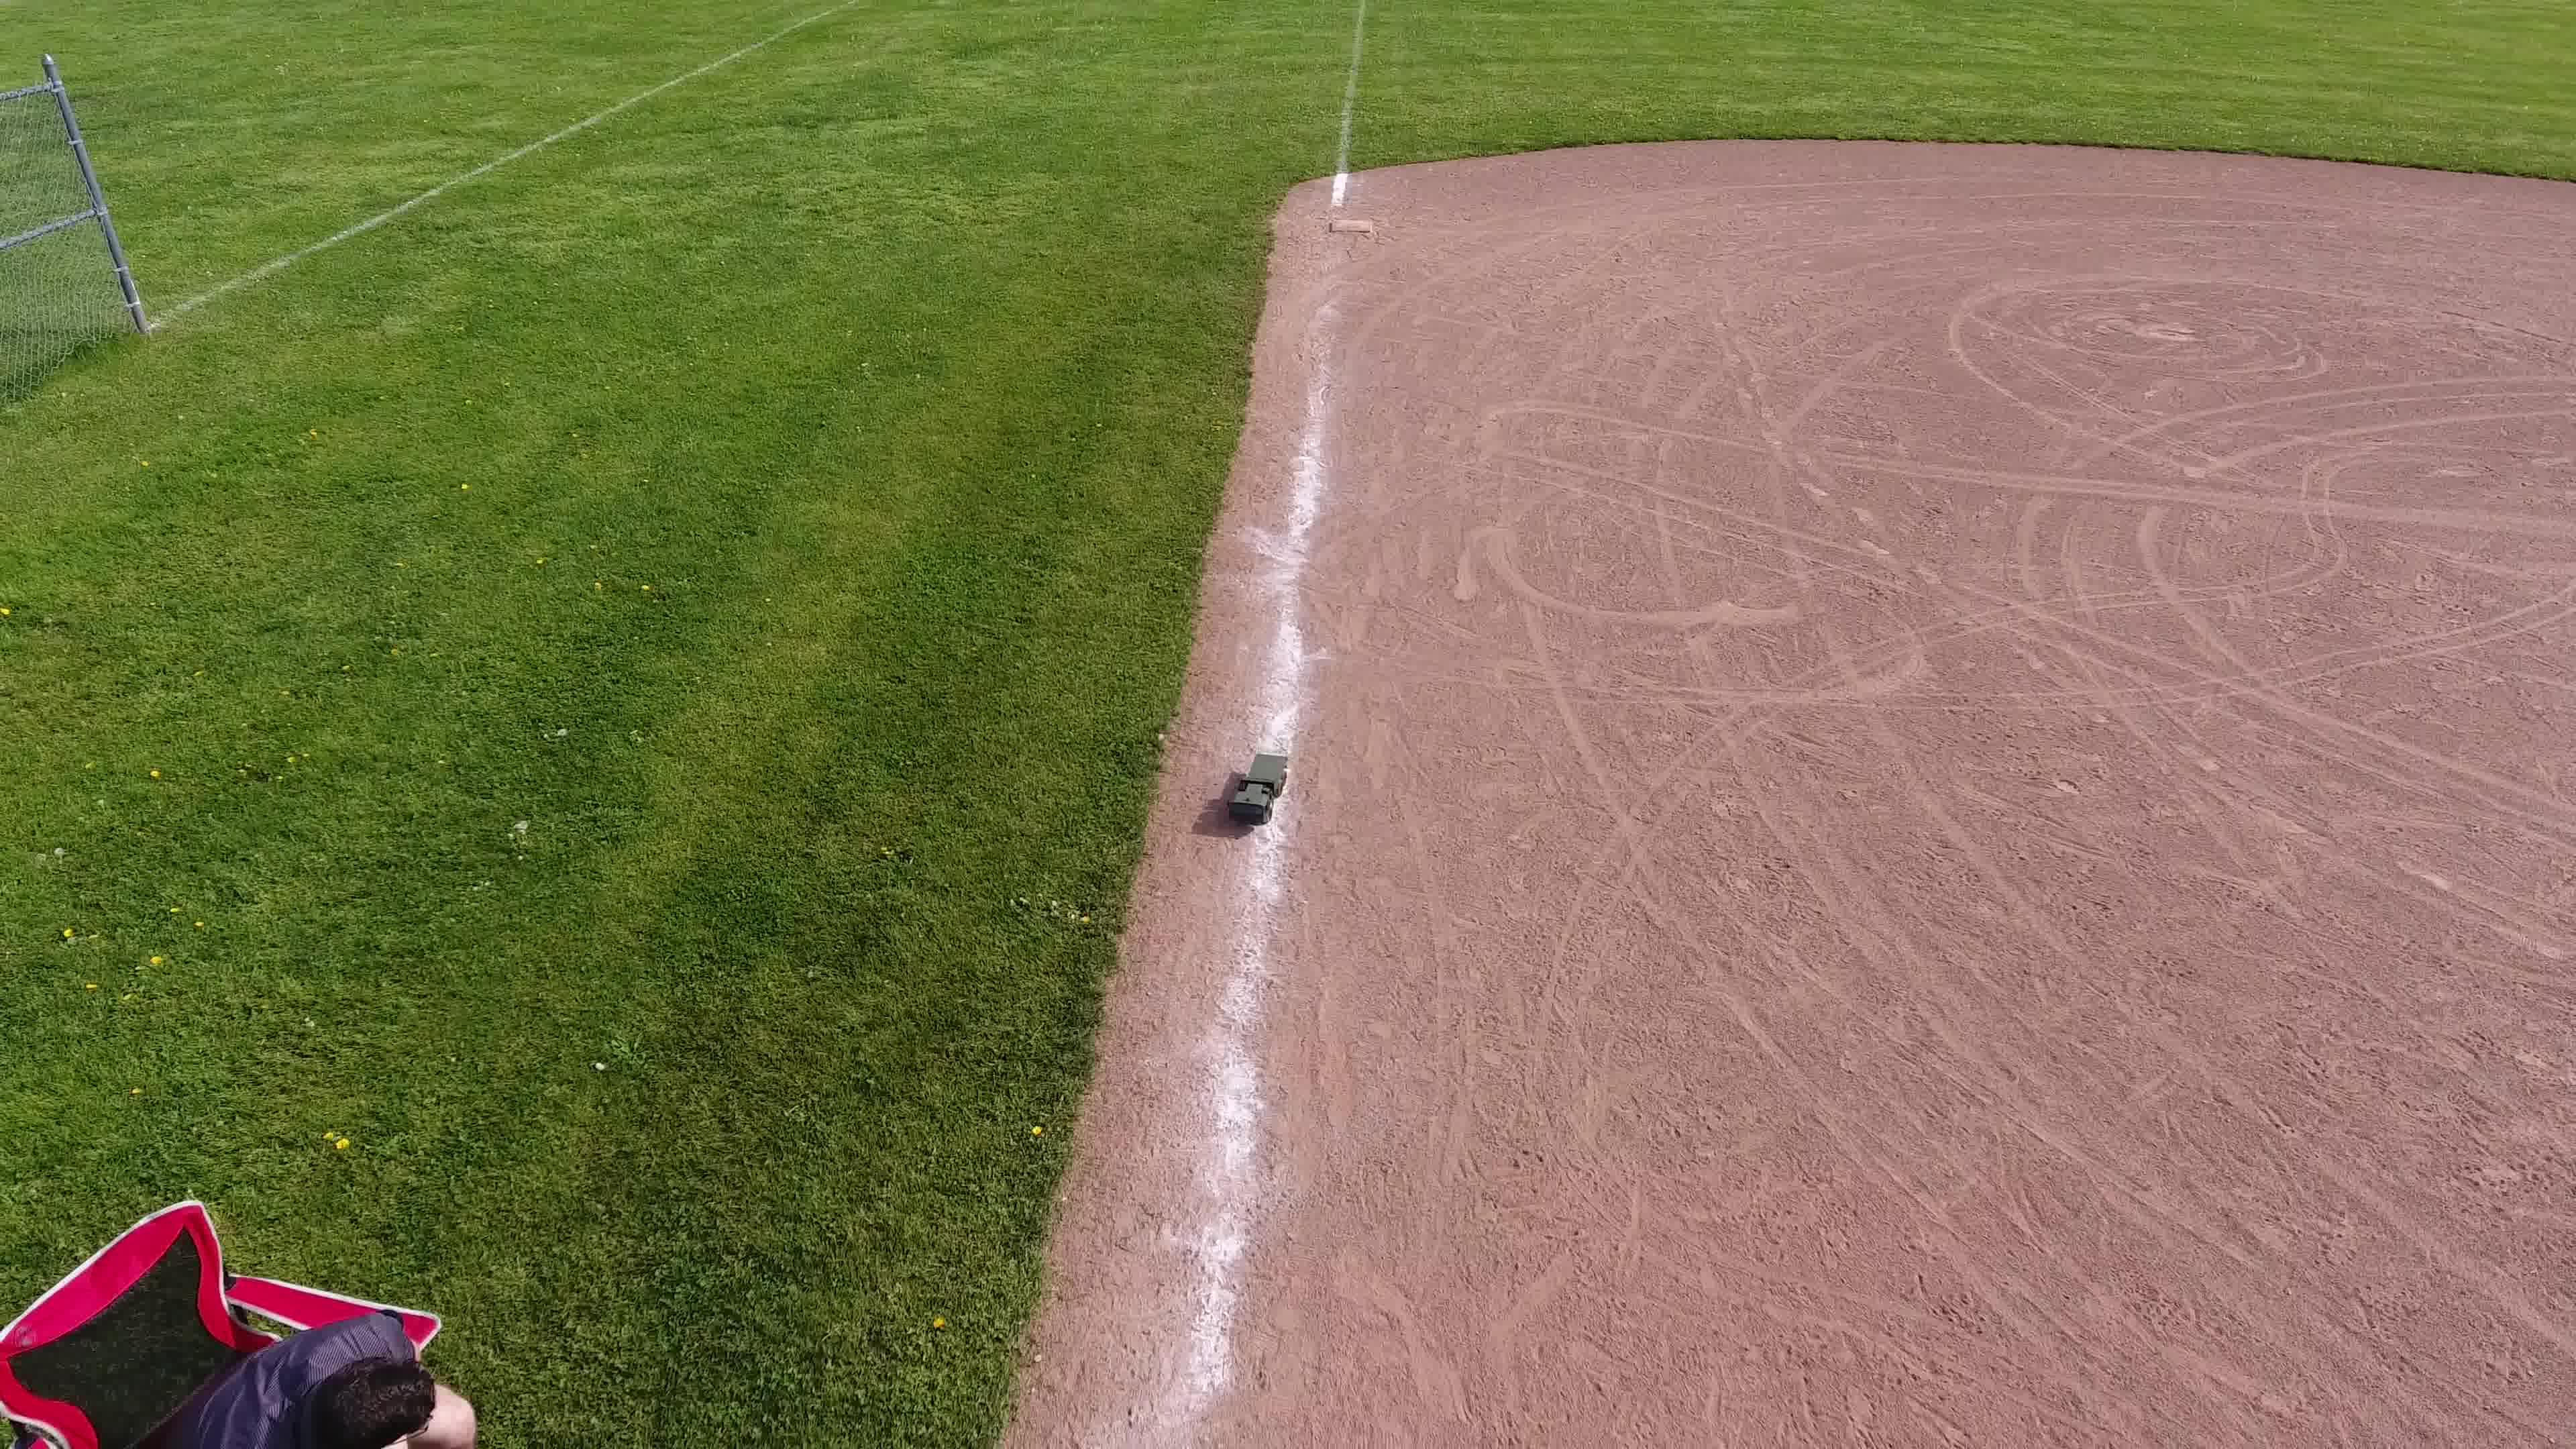transporter9: (1223, 750, 1295, 828)
